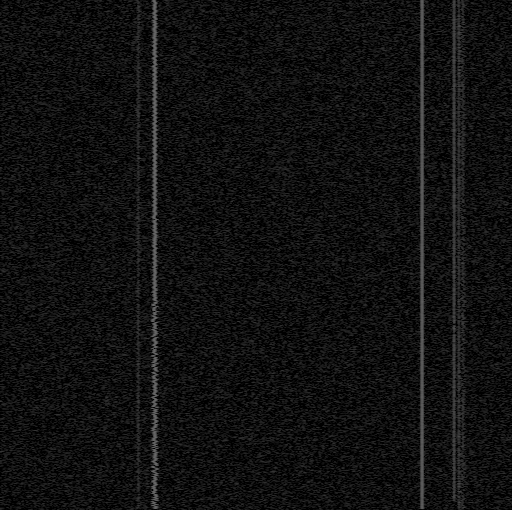wv_am: (451, 0, 457, 501)
wv_cw: (419, 0, 425, 509), (456, 0, 461, 509)
wv_lsb: (457, 360, 462, 509), (457, 31, 462, 106), (458, 200, 461, 235), (458, 174, 461, 199), (457, 16, 462, 30), (458, 143, 461, 161), (458, 236, 461, 253), (458, 162, 461, 173), (458, 131, 461, 142), (458, 254, 461, 263), (458, 111, 461, 118), (458, 306, 461, 312), (458, 321, 461, 326), (458, 279, 461, 284), (458, 342, 461, 346), (458, 336, 461, 340), (458, 328, 461, 332), (458, 287, 461, 291), (458, 267, 461, 271), (458, 126, 461, 130), (458, 356, 461, 359), (458, 350, 461, 353), (458, 315, 461, 318), (458, 301, 461, 304), (458, 294, 461, 297), (458, 120, 461, 123)
wv_wbfm: (149, 0, 160, 509), (135, 0, 142, 509), (459, 229, 467, 370), (458, 111, 468, 215), (459, 377, 467, 453), (459, 44, 468, 111), (459, 453, 467, 509), (459, 0, 467, 31), (459, 32, 466, 43), (459, 220, 467, 228), (459, 370, 467, 376), (459, 215, 467, 219)
